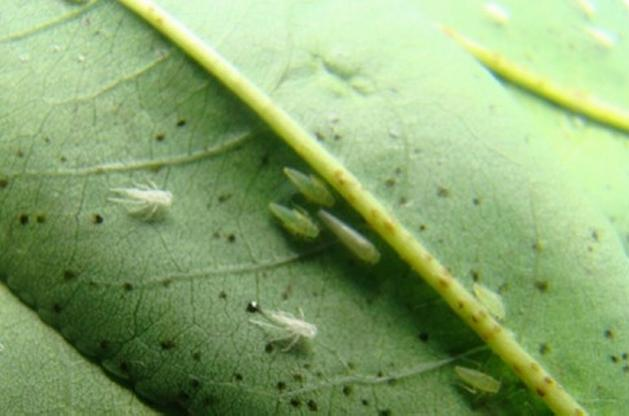Cicadellidae: (316, 208, 386, 265), (249, 304, 320, 350), (274, 164, 344, 207), (114, 175, 179, 221), (264, 197, 320, 244), (449, 359, 507, 398), (471, 281, 509, 325)
